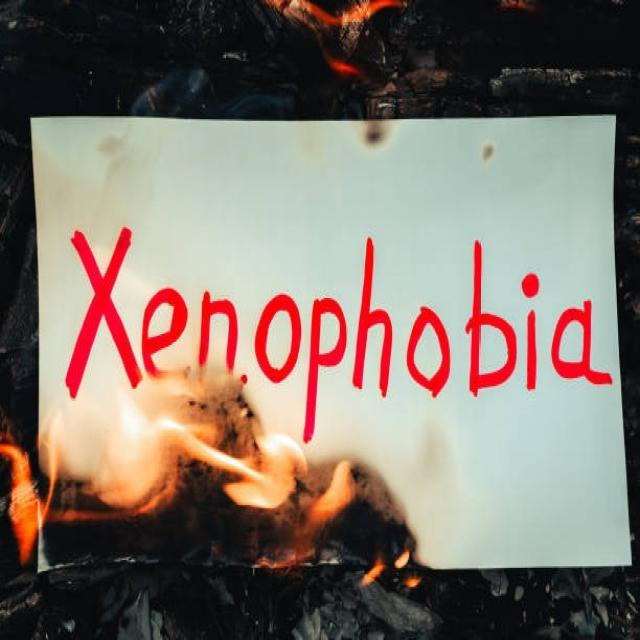fire: (0, 374, 421, 588), (260, 0, 407, 85)
